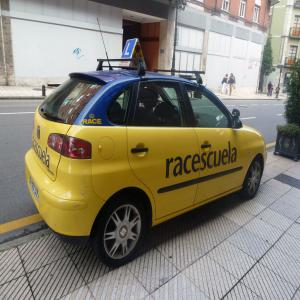Vehicle-registration-plate: (30, 177, 39, 204)
